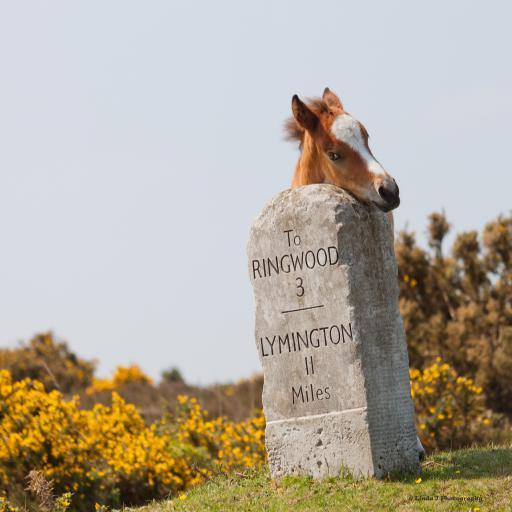horse: (282, 86, 403, 215)
